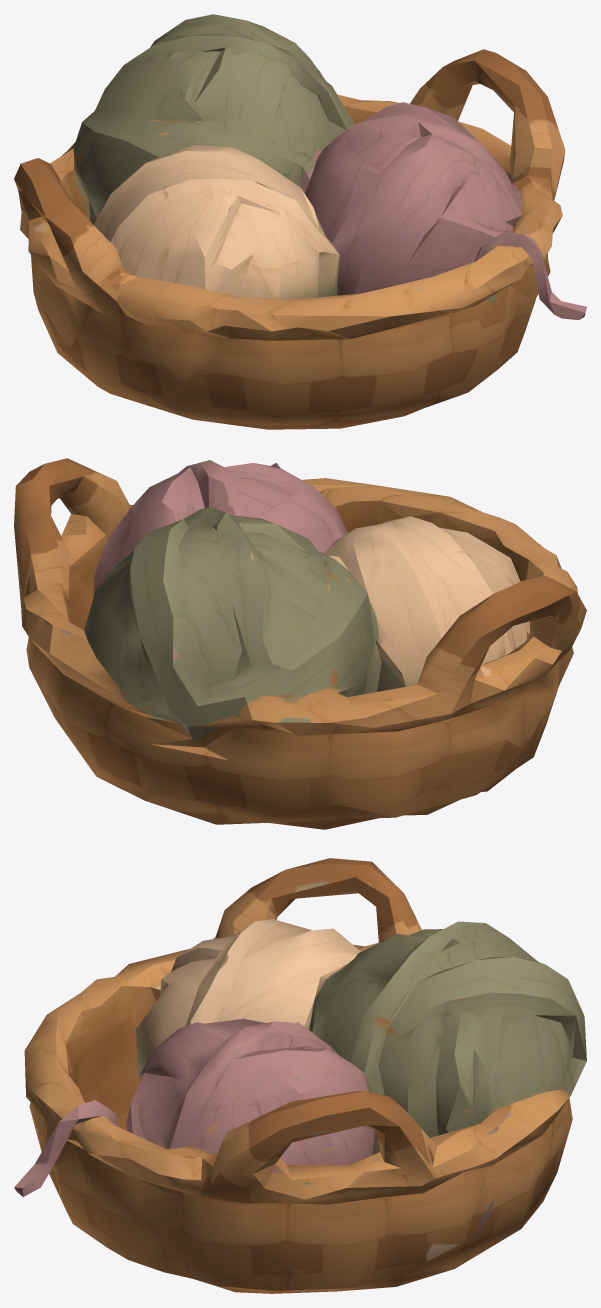
The model's file is Interior_YarnBasket_01.glb.
3 views of the same model, one above another, from view 1: azimuth 30°, elevation 25°; view 2: azimuth 150°, elevation 25°; view 3: azimuth 270°, elevation 25° (orthographic). The views are drawn at different scales.
Parts seen in each view (by area): view 1: Interior_YarnBasket_01.001; view 2: Interior_YarnBasket_01.001; view 3: Interior_YarnBasket_01.001.
Boxes of the visible parts, x1,y1,x2,y2 form: Interior_YarnBasket_01.001: [14, 14, 586, 429]; Interior_YarnBasket_01.001: [14, 458, 586, 829]; Interior_YarnBasket_01.001: [14, 858, 586, 1293].
Bounding box in the file's own units: 1 × 0.4984 × 0.9487.
Materials: 1 (1 with a texture image).
